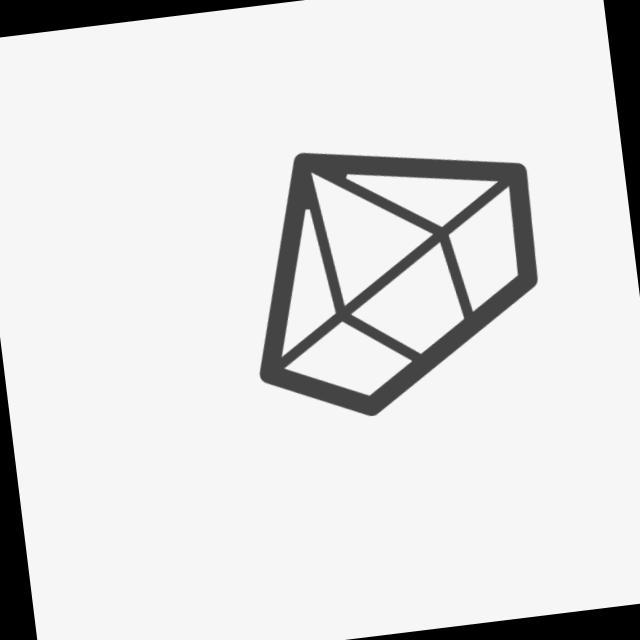diamond: (224, 119, 560, 438)
